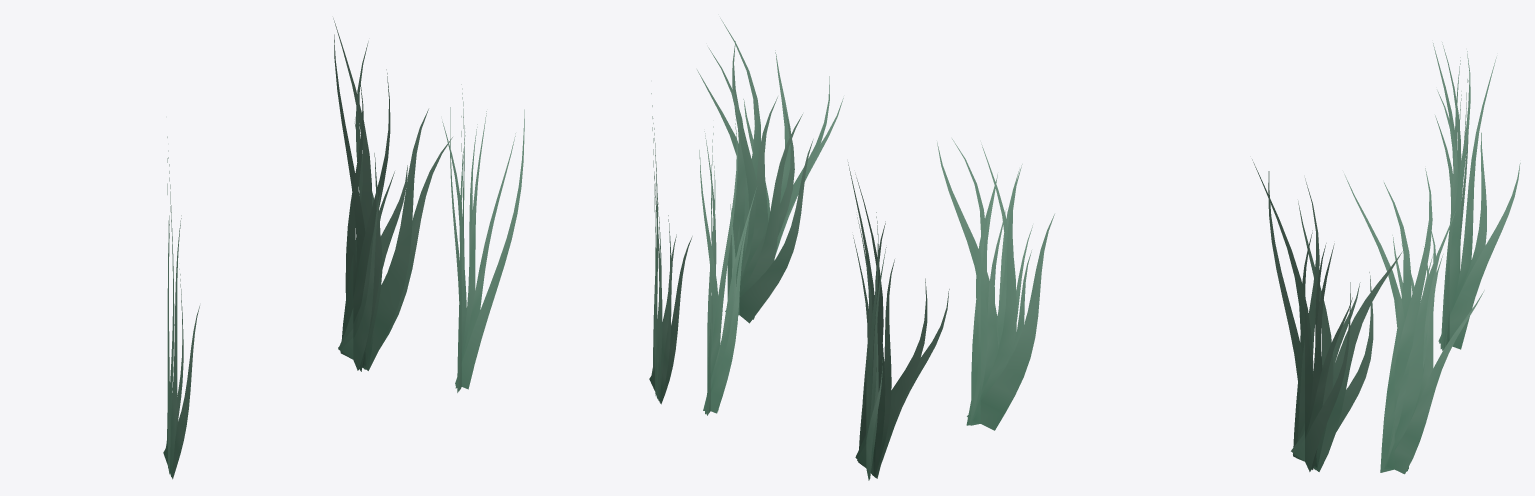
The model's file is mesh-plant-023-coral-fanleaf_LOD0.glb.
3 views of the same model, side by side, from view 1: azimuth 30°, elevation 25°; view 2: azimuth 150°, elevation 25°; view 3: azimuth 270°, elevation 25° (orthographic). The views are drawn at different scales.
Visible parts, largest first — view 1: geometry_0; view 2: geometry_0; view 3: geometry_0.
Boxes of the visible parts, left/top/right/bottom form: geometry_0: left=163, top=18, right=524, bottom=479; geometry_0: left=649, top=18, right=1054, bottom=480; geometry_0: left=1252, top=42, right=1520, bottom=474.
Bounding box in the file's own units: 1.29 × 0.9787 × 1.16.
